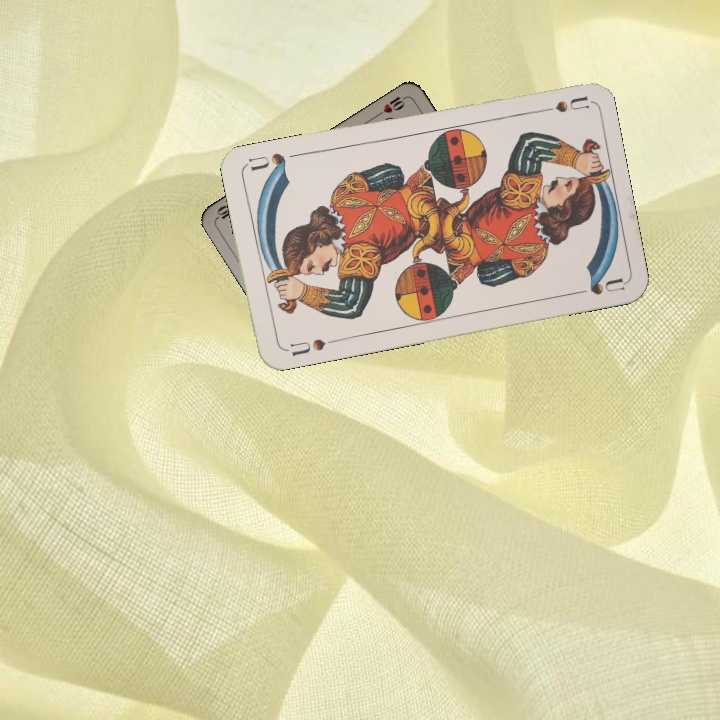H10: (373, 92, 409, 119)
SU: (280, 334, 339, 359), (530, 92, 589, 117)
